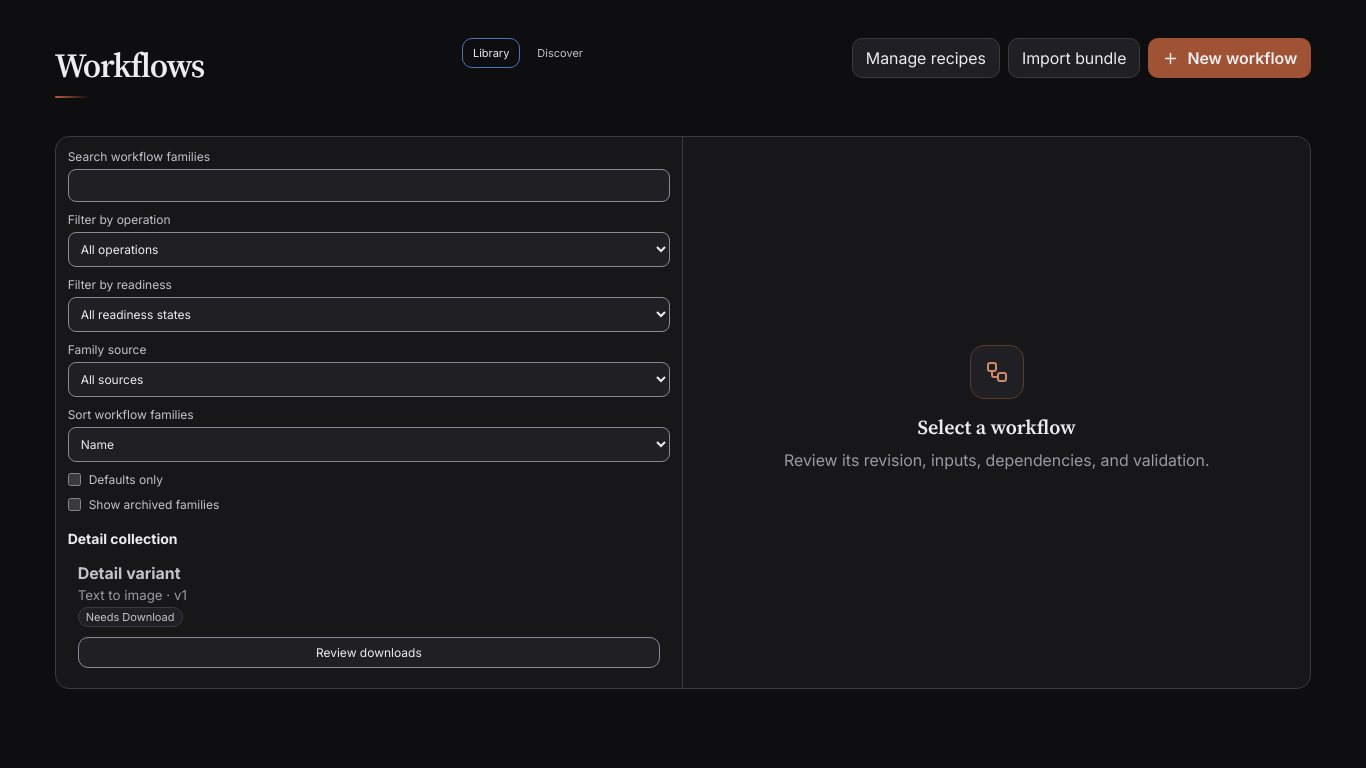
Test case: retains the reviewed files and refusal when the server rejects a changed offer
Click the button with aria-label "Review downloads for Detail variant". click: (369, 652)
box: [78,637,660,668]
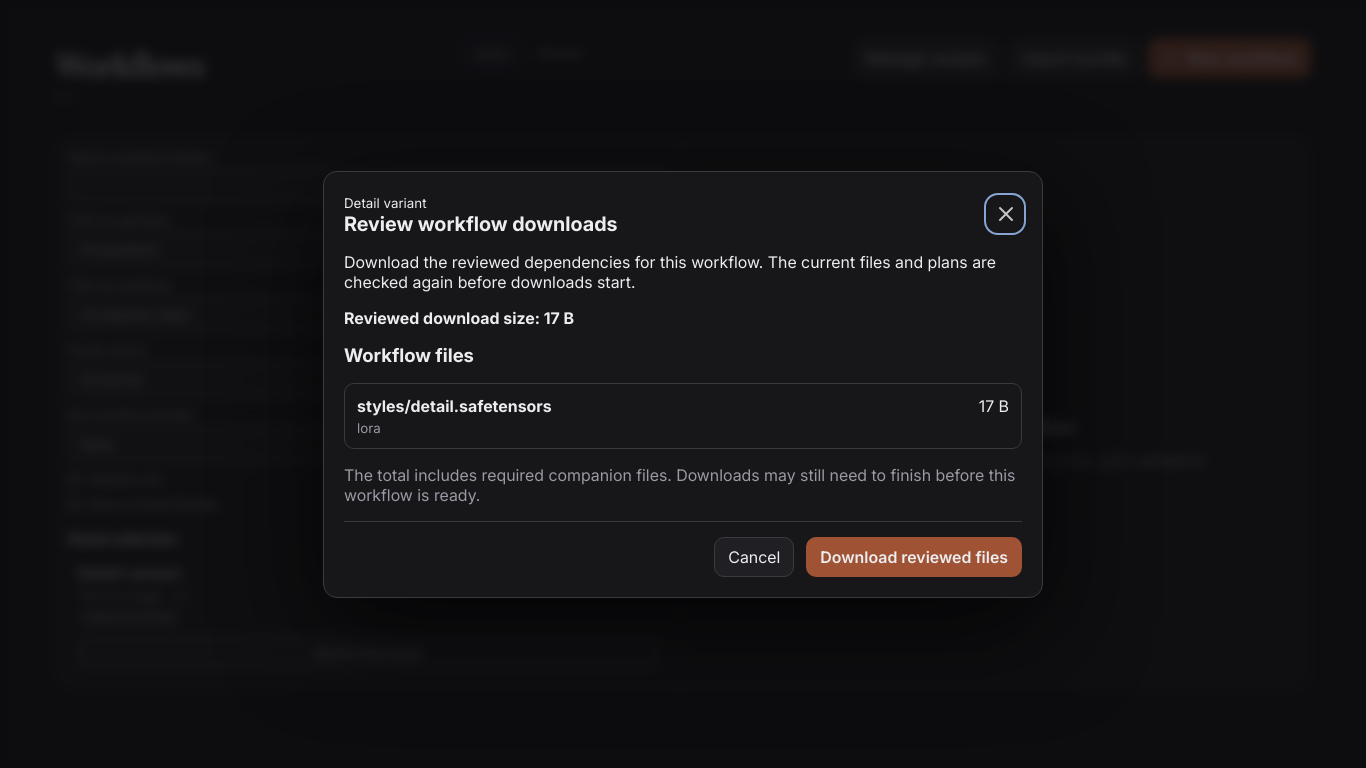
Click the button "Download reviewed files". click: (914, 556)
box: [806,536,1022,576]
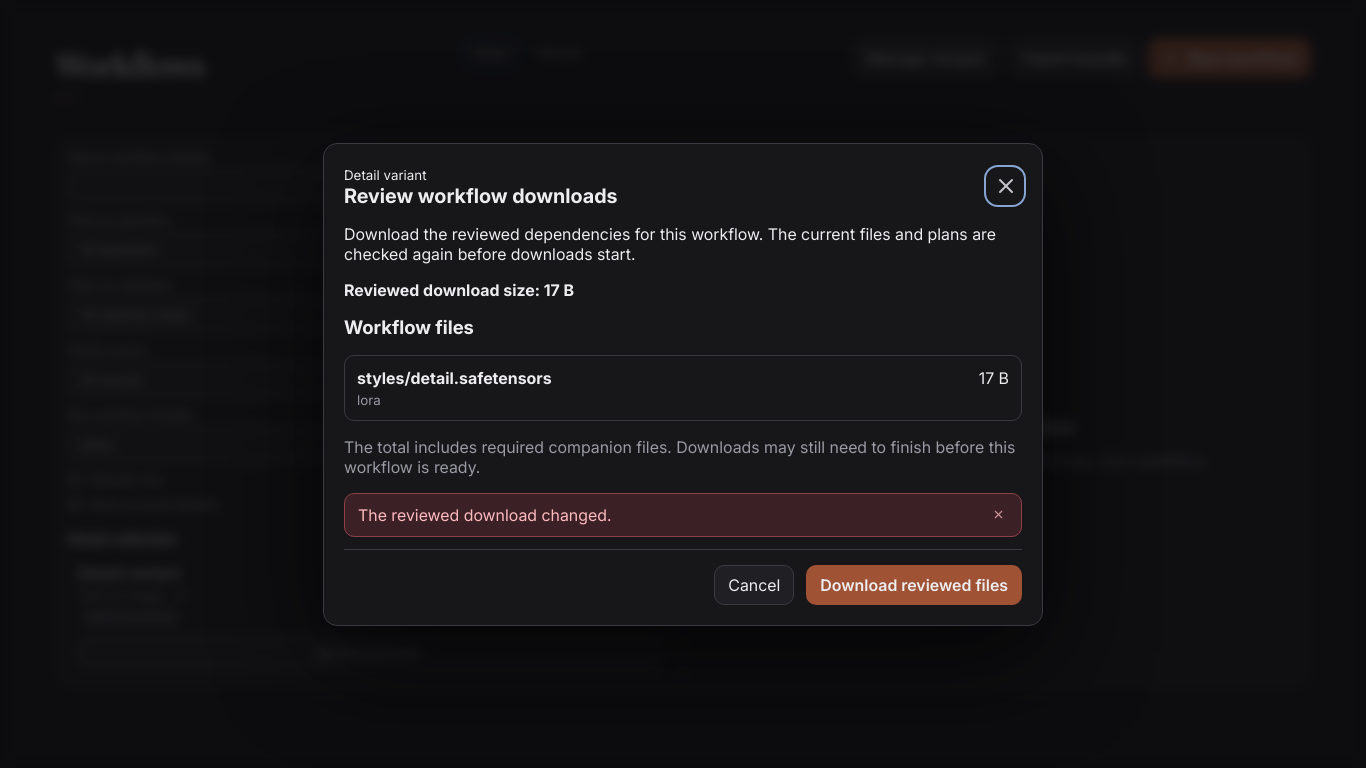
expect the dialog shows "styles/detail.safetensors": met, box [357,368,552,388]
expect the message reads "The reviewed download changed.": met, box [358,504,611,524]
